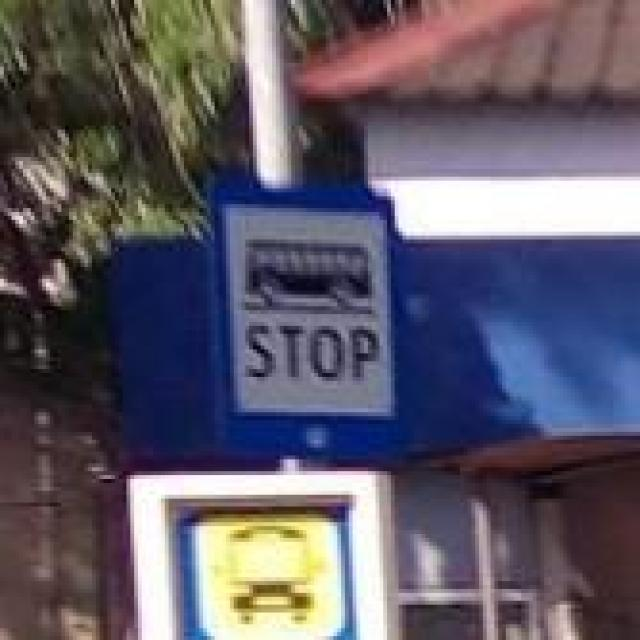traffic sign: (199, 177, 418, 460)
